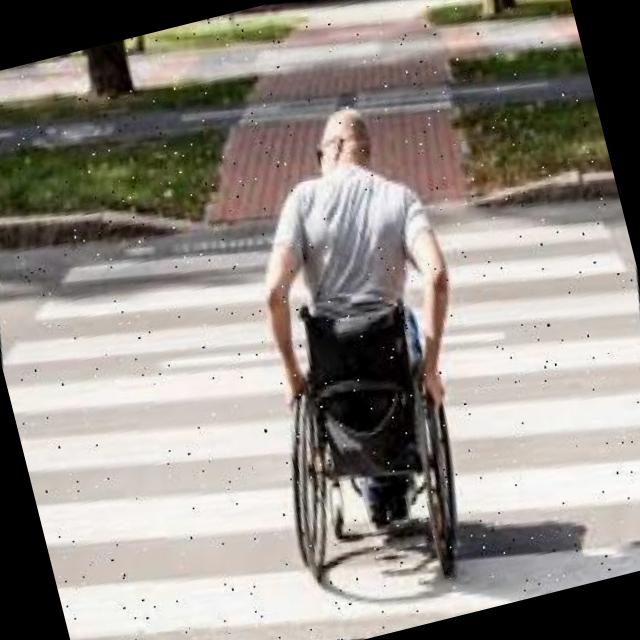Person: (185, 75, 544, 617)
